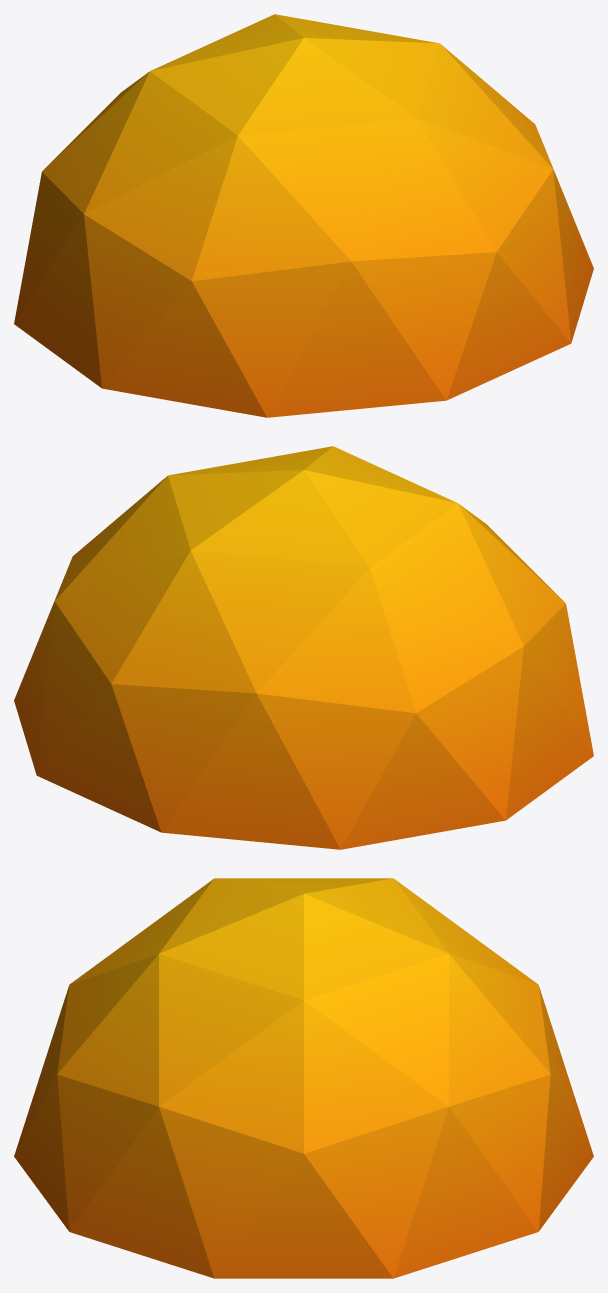
Rendered from autumn bush plant.fbx.
3 views of the same model, one above another, from view 1: azimuth 30°, elevation 25°; view 2: azimuth 150°, elevation 25°; view 3: azimuth 270°, elevation 25° (orthographic).
Visible parts, largest first — view 1: autumn bush plant; view 2: autumn bush plant; view 3: autumn bush plant.
Boxes of the visible parts, bbox=[...] form: autumn bush plant: bbox=[14, 14, 593, 417]; autumn bush plant: bbox=[14, 446, 593, 849]; autumn bush plant: bbox=[14, 878, 593, 1278].
Size of the model in its own units: 199 by 100 by 200.
